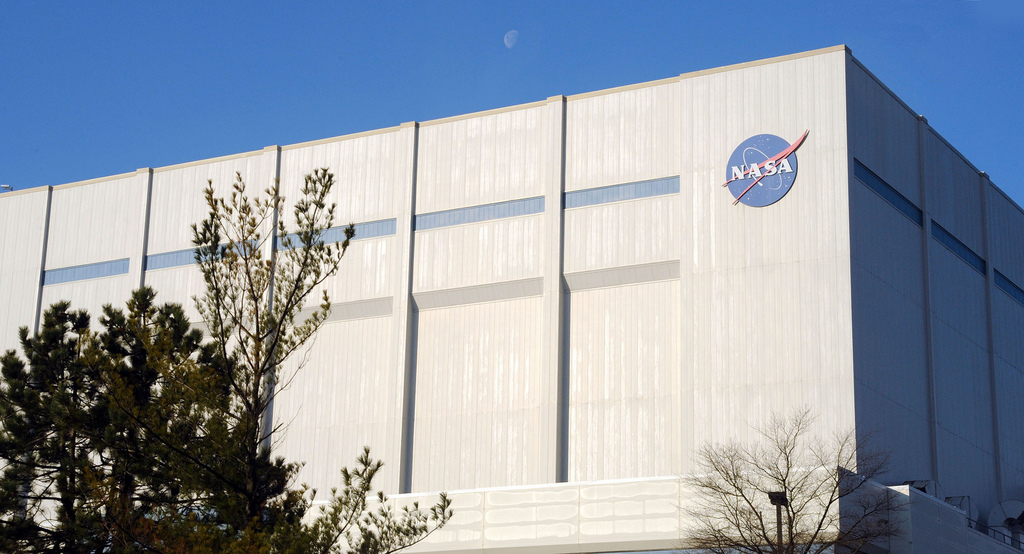NASA: (715, 124, 812, 208)
